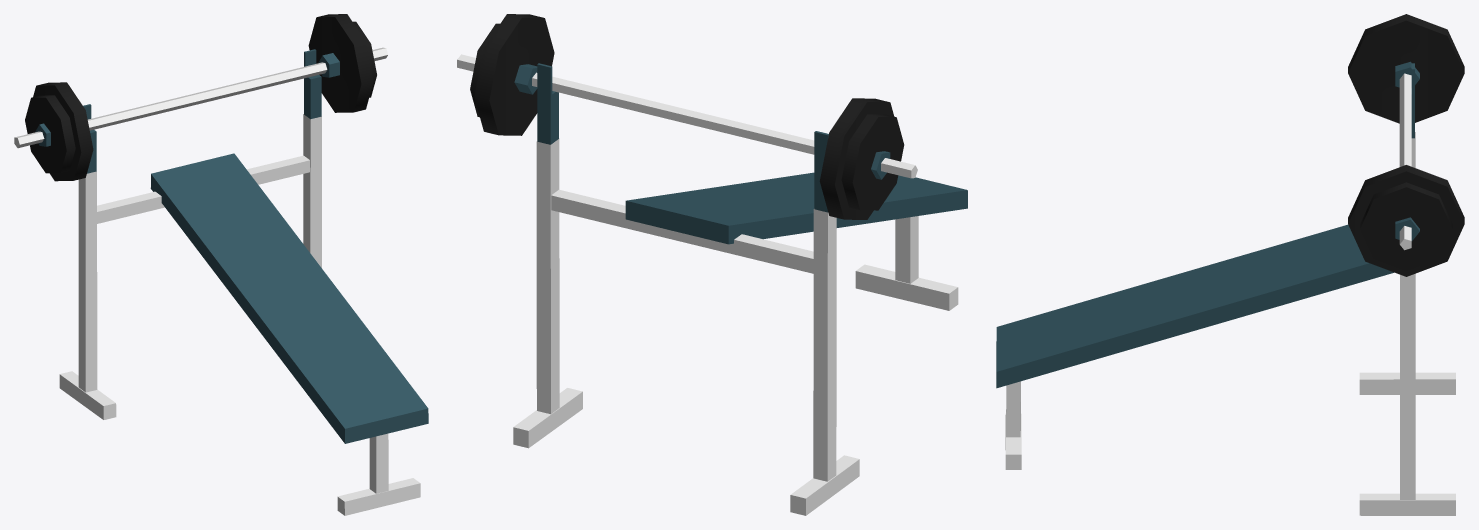
Rendered from training_item_026.glb.
3 renders of one model, left to right at view 1: azimuth 30°, elevation 25°; view 2: azimuth 150°, elevation 25°; view 3: azimuth 270°, elevation 25°, orthographic. The views are drawn at different scales.
Parts seen in each view (by area): view 1: training_item_026; view 2: training_item_026; view 3: training_item_026.
Part boxes in pixels (x1,y1,x2,y2): training_item_026: (14,14,428,515); training_item_026: (457,14,967,515); training_item_026: (996,14,1464,515).
Bounding box in the file's own units: 1.27 × 1.07 × 1.27.
1 material, 1 textured.
